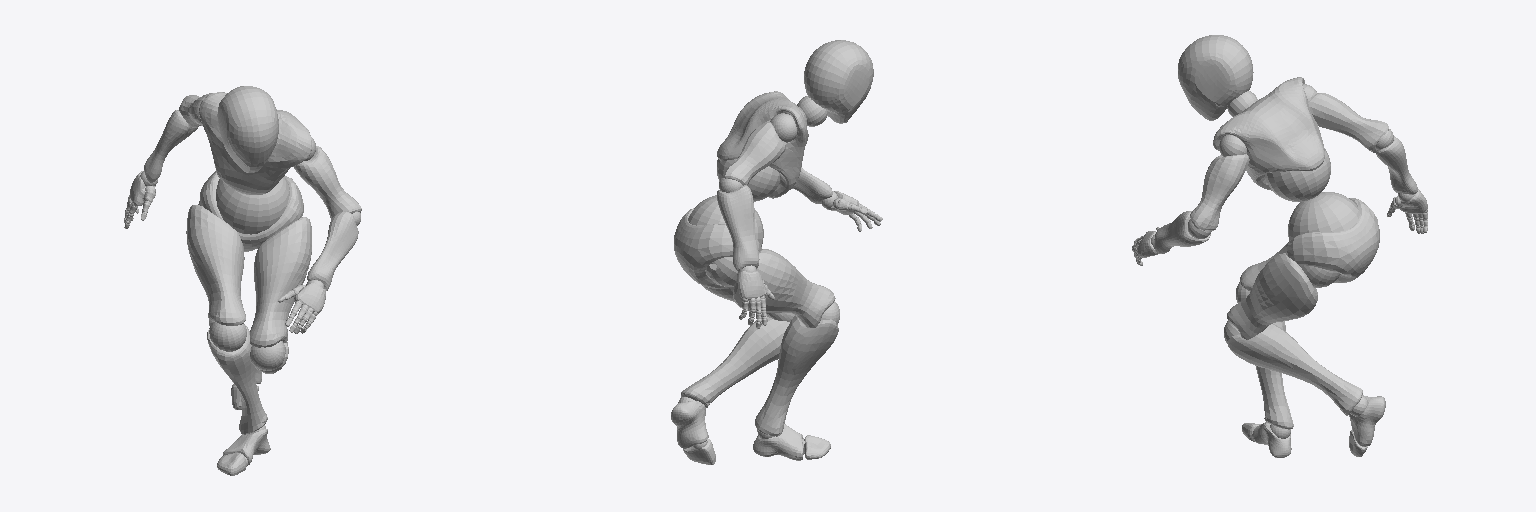
3 views of the same model, side by side, from view 1: azimuth 30°, elevation 25°; view 2: azimuth 150°, elevation 25°; view 3: azimuth 270°, elevation 25° (orthographic).
Parts seen in each view (by area): view 1: Beta_Surface, Beta_Joints; view 2: Beta_Surface, Beta_Joints; view 3: Beta_Surface, Beta_Joints.
Part boxes in pixels (x1,y1,x2,y2): Beta_Surface: (124, 86, 361, 475); Beta_Joints: (124, 107, 360, 465); Beta_Surface: (671, 40, 882, 464); Beta_Joints: (678, 96, 877, 453); Beta_Surface: (1132, 35, 1427, 457); Beta_Joints: (1132, 84, 1427, 440).
Size of the model in its own units: 0.4836 by 1.41 by 0.953.